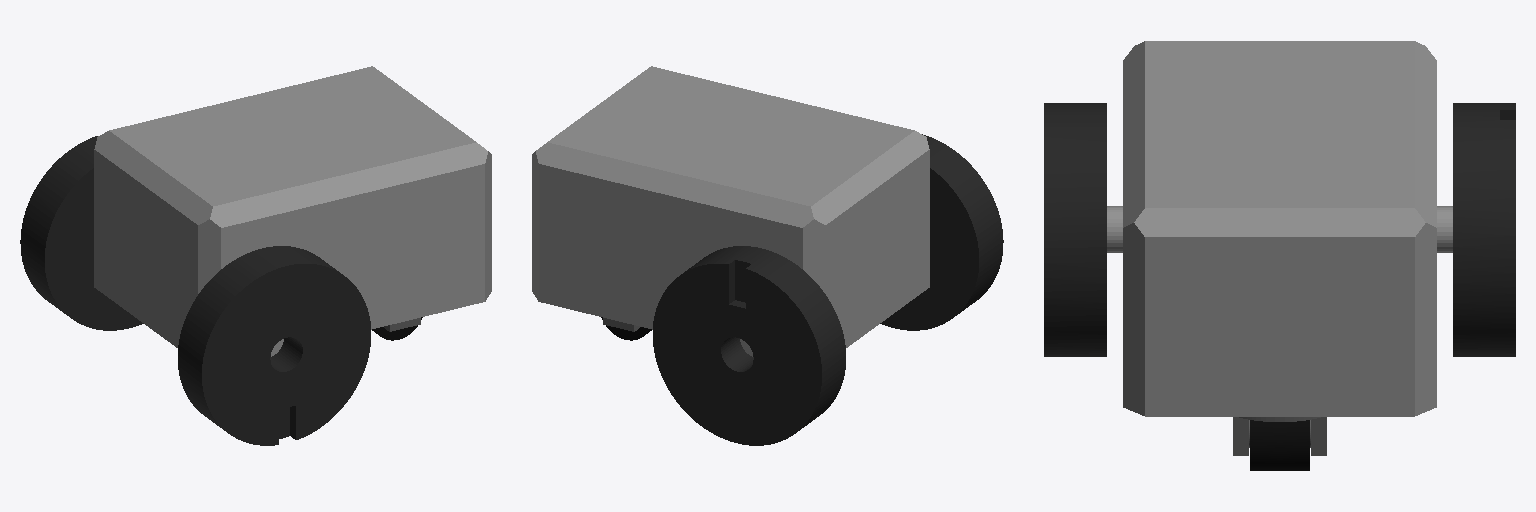
robot.urdf — tortoisebot:
<?xml version="1.0"?>
<robot name="tortoisebot" xmlns:xacro="http://www.ros.org/wiki/xacro">

  <!-- Left Wheel -->
  <link name="Left_Wheel">
    <inertial>
      <origin xyz="-4.338469526690148e-06 0.00021222869557543155 0.004950773754537821" rpy="0 0 0"/>
      <mass value="0.7743137464767264"/>
      <inertia ixx="0.0003515261703812343" iyy="0.0003569564539829496" izz="0.0006571195709928362"
               ixy="-1.0937683088668037e-07" iyz="-1.240583473094501e-06" ixz="2.5344424675480606e-08"/>
    </inertial>
    <visual name="Left_Wheel_visual">
      <origin xyz="0.0862824205036992 0.011737187665089452 0.06499999999999988"
              rpy="1.570796326794897 -1.1412648882057109e-16 0.003490658503987643"/>
      <geometry>
        <mesh filename="package://tortoisebot_description/meshes/Left_Wheel.stl" scale="0.001 0.001 0.001"/>
      </geometry>
      <material name="wheel_material"/>
    </visual>
    <collision name="Left_Wheel_collision">
      <origin xyz="0.0862824205036992 0.011737187665089452 0.06499999999999988"
              rpy="1.570796326794897 -1.1412648882057109e-16 0.003490658503987643"/>
      <geometry>
        <mesh filename="package://tortoisebot_description/meshes/Left_Wheel.stl" scale="0.001 0.001 0.001"/>
      </geometry>
    </collision>
  </link>

  <!-- Base link -->
  <link name="Base_link">
    <inertial>
      <origin xyz="-0.040154052475668923 0.009999999999999983 0.03453862167013661" rpy="0 0 0"/>
      <mass value="7.585247380554527"/>
      <inertia ixx="0.0092829591474056" iyy="0.015202952423180427" izz="0.018392530842501975"
               ixy="2.3619136615694303e-17" iyz="5.139343241673372e-18" ixz="-2.554526267824328e-05"/>
    </inertial>
    <visual name="Base_link_visual">
      <origin xyz="0 0 0" rpy="0 0 0"/>
      <geometry>
        <mesh filename="package://tortoisebot_description/meshes/Base_link.stl" scale="0.001 0.001 0.001"/>
      </geometry>
      <material name="base_material"/>
    </visual>
    <collision name="Base_link_collision">
      <origin xyz="0 0 0" rpy="0 0 0"/>
      <geometry>
        <mesh filename="package://tortoisebot_description/meshes/Base_link.stl" scale="0.001 0.001 0.001"/>
      </geometry>
    </collision>
  </link>

  <!-- Right Wheel -->
  <link name="Right_Wheel">
    <inertial>
      <origin xyz="1.1134460496364795e-06 0.0002335790180863917 0.004943880925290784" rpy="0 0 0"/>
      <mass value="0.7736074033943435"/>
      <inertia ixx="0.00035109706486742207" iyy="0.0003569130190057409" izz="0.0006567305572464216"
               ixy="2.7605922442095077e-08" iyz="-1.3653719893101483e-06" ixz="-6.5245823912922504e-09"/>
    </inertial>
    <visual name="Right_Wheel_visual">
      <origin xyz="0.08636225823261161 0.011134544002358533 -0.07500000000000004"
              rpy="1.5707963267948972 1.1412648882057109e-16 -0.003490658503987643"/>
      <geometry>
        <mesh filename="package://tortoisebot_description/meshes/Right_Wheel.stl" scale="0.001 0.001 0.001"/>
      </geometry>
      <material name="wheel_material"/>
    </visual>
    <collision name="Right_Wheel_collision">
      <origin xyz="0.08636225823261161 0.011134544002358533 -0.07500000000000004"
              rpy="1.5707963267948972 1.1412648882057109e-16 -0.003490658503987643"/>
      <geometry>
        <mesh filename="package://tortoisebot_description/meshes/Right_Wheel.stl" scale="0.001 0.001 0.001"/>
      </geometry>
    </collision>
  </link>

  <!-- Caster joint body -->
  <link name="Caster_Joint">
    <inertial>
      <origin xyz="2.142401277787087e-05 2.55351295663786e-17 0.00613775420004409" rpy="0 0 0"/>
      <mass value="0.06393321006648853"/>
      <inertia ixx="1.2537845368381463e-05" iyy="8.916679596151199e-06" izz="1.4213753118662629e-05"
               ixy="-1.6940658945086007e-19" iyz="-1.6081767536570146e-17" ixz="5.850092257191428e-09"/>
    </inertial>
    <visual name="Caster_Joint_visual">
      <origin xyz="-0.014999909541135859 0.01000000000000004 5.2358331826338755e-05"
              rpy="-3.1415926535897927 0.0034906585039880308 1.141271841224324e-16"/>
      <geometry>
        <mesh filename="package://tortoisebot_description/meshes/Caster_Joint.stl" scale="0.001 0.001 0.001"/>
      </geometry>
      <material name="caster_material"/>
    </visual>
    <collision name="Caster_Joint_collision">
      <origin xyz="-0.014999909541135859 0.01000000000000004 5.2358331826338755e-05"
              rpy="-3.1415926535897927 0.0034906585039880308 1.141271841224324e-16"/>
      <geometry>
        <mesh filename="package://tortoisebot_description/meshes/Caster_Joint.stl" scale="0.001 0.001 0.001"/>
      </geometry>
    </collision>
  </link>

  <!-- Caster wheel -->
  <link name="Caster_Wheel">
    <inertial>
      <origin xyz="-9.307435444583235e-10 2.601564186299754e-09 -0.009999999999999945" rpy="0 0 0"/>
      <mass value="0.06029891454240851"/>
      <inertia ixx="4.584915920388591e-06" iyy="4.584915897400669e-06" izz="5.541847126153615e-06"
               ixy="8.025806382984915e-17" iyz="1.6940658945086007e-21" ixz="-1.9312351197398048e-19"/>
    </inertial>
    <visual name="Caster_Wheel_visual">
      <origin xyz="-0.09897943464349573 -0.042930491240589 -0.0004999999999999976"
              rpy="-1.570796326794896 -1.1412648882057109e-16 0.003490658503987643"/>
      <geometry>
        <mesh filename="package://tortoisebot_description/meshes/Caster_Wheel.stl" scale="0.001 0.001 0.001"/>
      </geometry>
      <material name="caster_wheel_material"/>
    </visual>
    <collision name="Caster_Wheel_collision">
      <origin xyz="-0.09897943464349573 -0.042930491240589 -0.0004999999999999976"
              rpy="-1.570796326794896 -1.1412648882057109e-16 0.003490658503987643"/>
      <geometry>
        <mesh filename="package://tortoisebot_description/meshes/Caster_Wheel.stl" scale="0.001 0.001 0.001"/>
      </geometry>
    </collision>
  </link>

  <!-- Joints -->
  <joint name="Base_link_Revolute-4" type="continuous">
    <origin xyz="-0.08632286527240064 -0.05 0.011435936705827668"
            rpy="1.5707963267948961 0.003490658503987649 1.1218558279684196e-16"/>
    <parent link="Base_link"/>
    <child link="Left_Wheel"/>
    <axis xyz="0 0 1"/>
  </joint>

  <joint name="Base_link_Revolute-5" type="continuous">
    <origin xyz="-0.0863228652724007 0.0700000000000001 0.011435936705827605"
            rpy="-1.5707963267948972 0.003490658503987649 1.1218558279684196e-16"/>
    <parent link="Base_link"/>
    <child link="Right_Wheel"/>
    <axis xyz="0 0 1"/>
  </joint>

  <joint name="Base_link_Revolute-6" type="continuous">
    <origin xyz="0.005000000921238907 0.010000000000000057 -0.0020000014426265044"
            rpy="3.1415926535897927 0.003490658503987649 1.1218558279684196e-16"/>
    <parent link="Base_link"/>
    <child link="Caster_Joint"/>
    <!-- axis preserved rationalized -->
    <axis xyz="0.003491 0 0.999994"/>
  </joint>

  <joint name="Caster_Joint_Revolute-7" type="continuous">
    <origin xyz="5.236000000000018e-05 0.01 0.014999910000000002"
            rpy="-1.5707963267948966 -0.0 4.622231866529366e-33"/>
    <parent link="Caster_Joint"/>
    <child link="Caster_Wheel"/>
    <axis xyz="0 0 1"/>
  </joint>

  <!-- Gazebo plugin block -->
  <gazebo reference="Base_link">
    <plugin name="gazebo_ros_control" filename="libgazebo_ros_control.so">
      <robotNamespace>/</robotNamespace>
    </plugin>
  </gazebo>

  <!-- Basic materials for RViz fallback -->
  <material name="wheel_material">
    <color rgba="0.2 0.2 0.2 1.0"/>
  </material>
  <material name="base_material">
    <color rgba="0.6 0.6 0.6 1.0"/>
  </material>
  <material name="caster_material">
    <color rgba="0.4 0.4 0.4 1.0"/>
  </material>
  <material name="caster_wheel_material">
    <color rgba="0.1 0.1 0.1 1.0"/>
  </material>

</robot>

--- Facts derived from the render (not from the file) ---
3 views of the same robot in one strip: view 1: azimuth 30°, elevation 25°; view 2: azimuth 150°, elevation 25°; view 3: azimuth 270°, elevation 25° (orthographic).
Robot: tortoisebot — 5 links, 4 joints (4 continuous); root link Base_link; default pose: all joints at 0.
Links seen in each view (by area): view 1: Base_link, Left_Wheel, Right_Wheel; view 2: Base_link, Right_Wheel, Left_Wheel; view 3: Base_link, Left_Wheel, Right_Wheel, Caster_Wheel, Caster_Joint.
Link boxes in pixels (bbox=[...]): Base_link: bbox=[94, 66, 491, 356]; Left_Wheel: bbox=[178, 246, 370, 445]; Right_Wheel: bbox=[20, 136, 143, 330]; Base_link: bbox=[532, 66, 929, 356]; Right_Wheel: bbox=[653, 246, 845, 445]; Left_Wheel: bbox=[880, 134, 1003, 330]; Base_link: bbox=[1107, 41, 1452, 416]; Left_Wheel: bbox=[1044, 103, 1106, 356]; Right_Wheel: bbox=[1453, 103, 1515, 356]; Caster_Wheel: bbox=[1250, 420, 1309, 470]; Caster_Joint: bbox=[1233, 417, 1326, 455].
Size in the robot's own frame: 0.1568 by 0.15 by 0.0995 metres.
5 mesh visuals loaded from 5 distinct referenced files (5 binary STL).